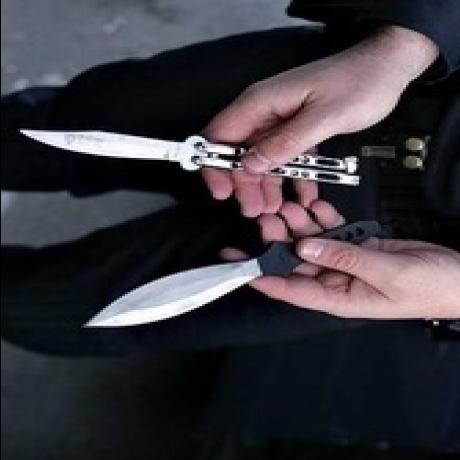1: (0, 0, 460, 361)
weapon: (11, 126, 359, 184), (86, 242, 294, 328)
